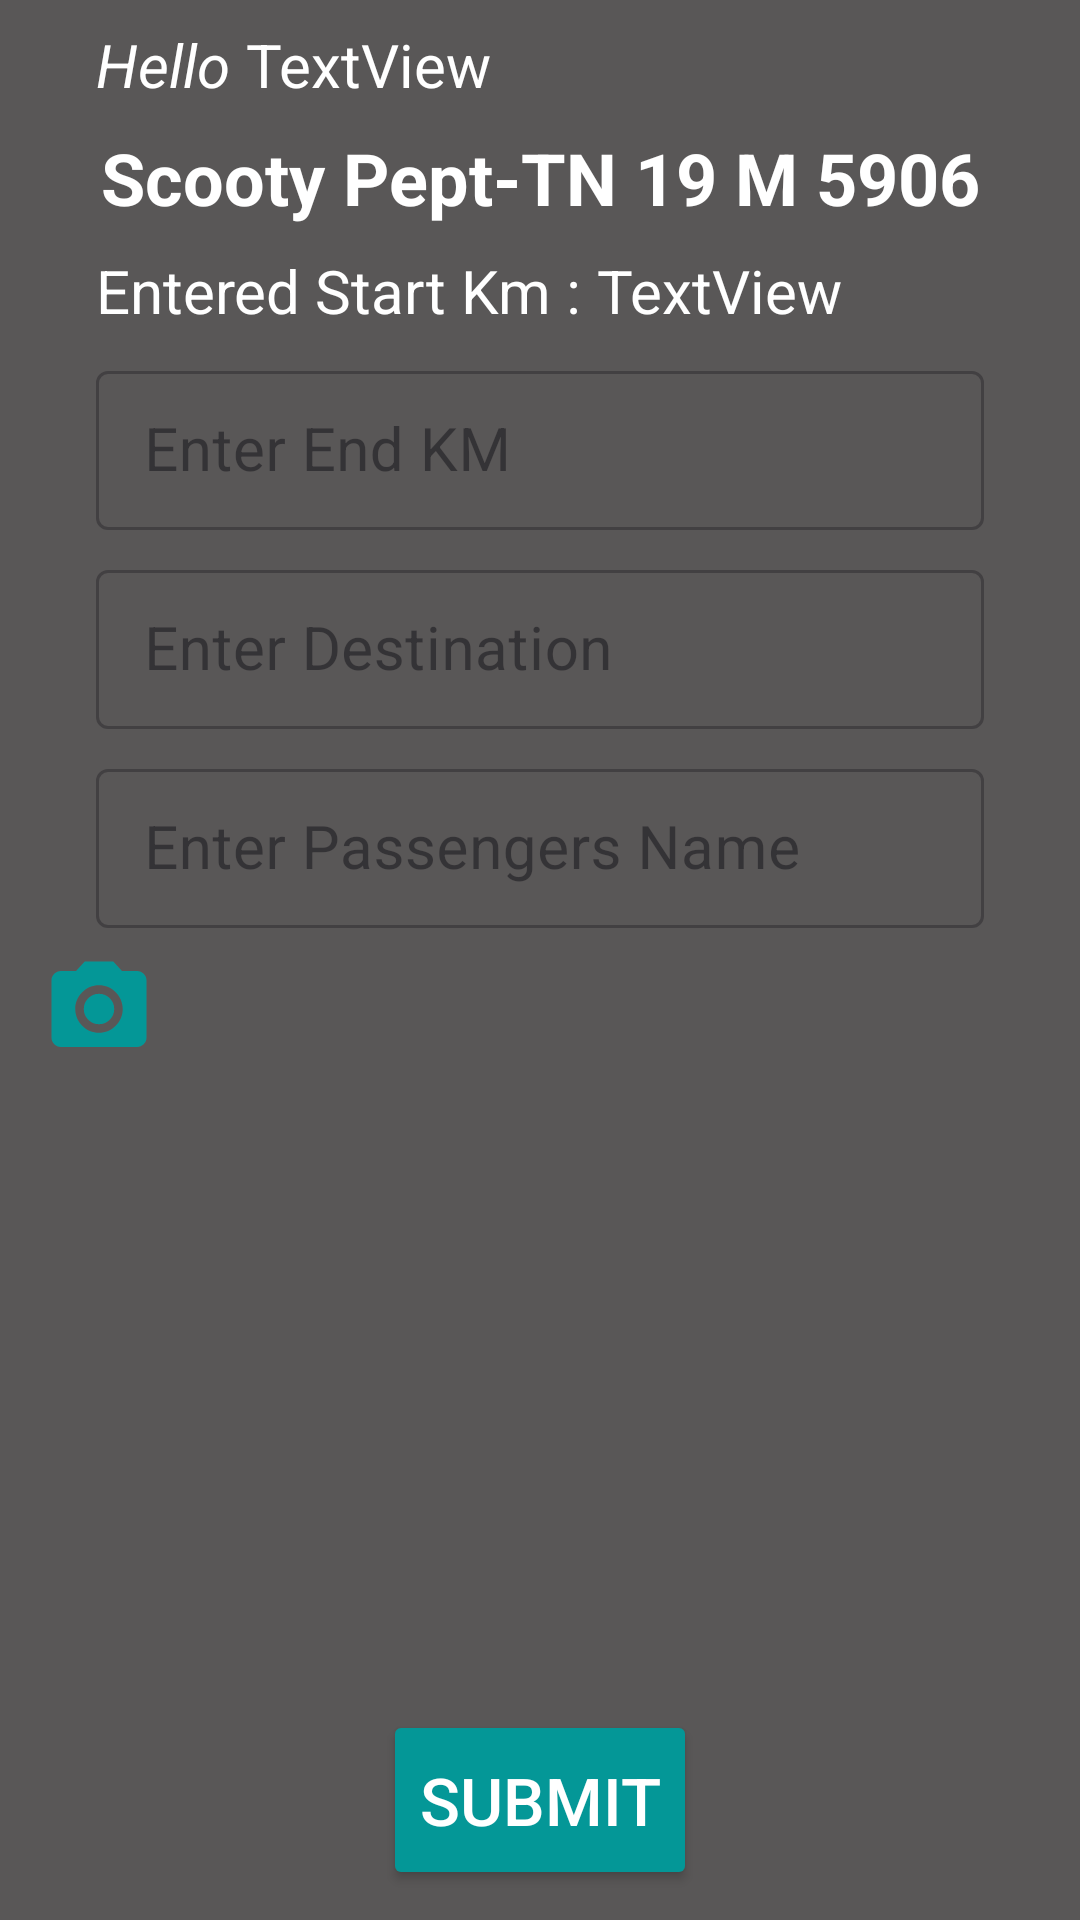

Icon bounding boxes for this 1080*1920 phone screenshot, format bbox(x1, y1, x2, y2):
camera: bbox(51, 961, 147, 1047)
